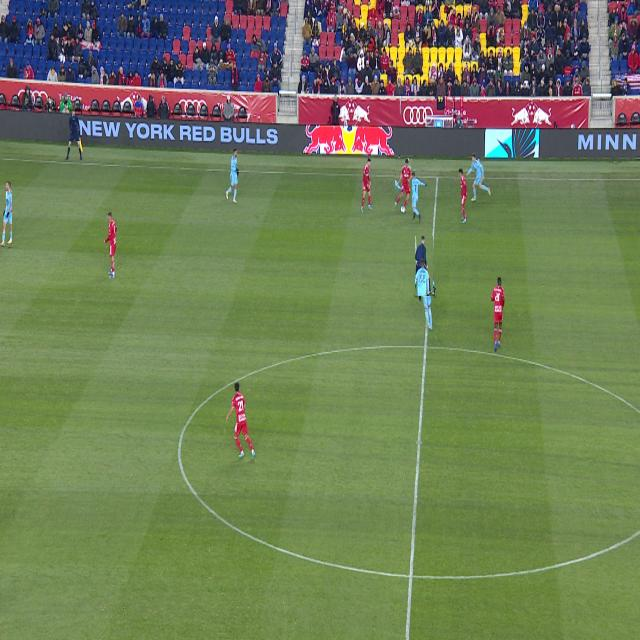football: (402, 206, 407, 214)
player: (226, 383, 256, 460), (466, 154, 491, 202), (405, 172, 427, 224), (419, 260, 435, 331), (491, 277, 505, 352), (395, 158, 412, 212), (104, 212, 117, 278), (0, 182, 12, 247), (361, 158, 373, 213), (226, 149, 238, 204), (458, 168, 467, 224)
referee: (415, 236, 433, 296), (433, 289, 436, 297)
